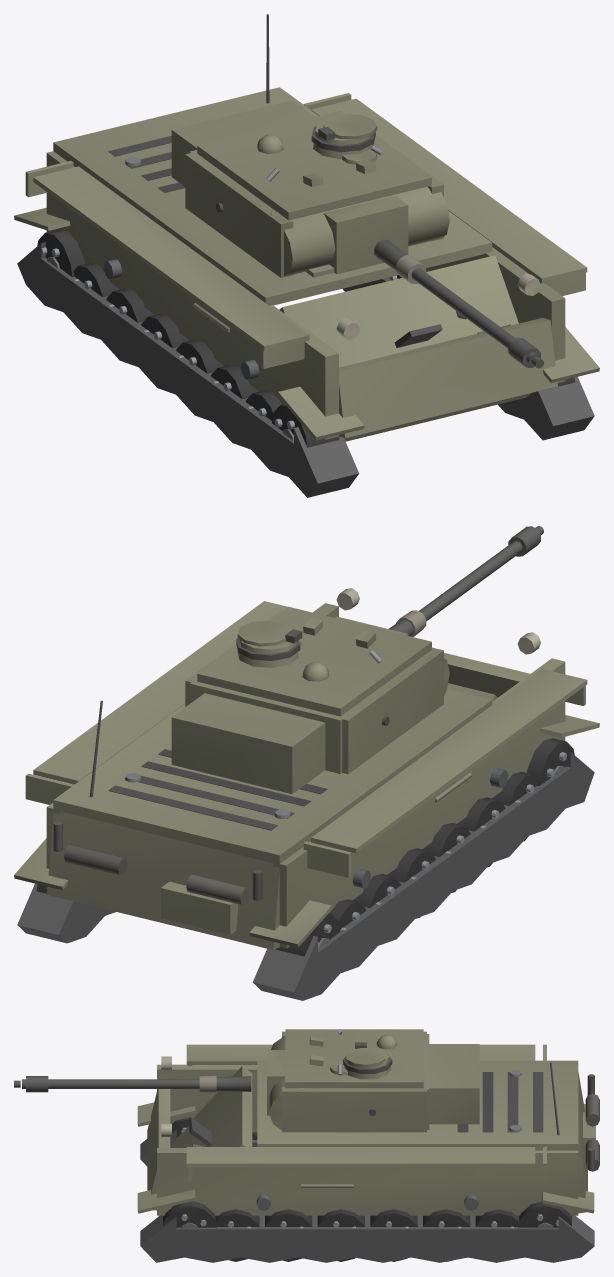
Rendered from m46patton.glb.
The picture shows the model from 3 angles, top to bottom: view 1: azimuth 30°, elevation 25°; view 2: azimuth 150°, elevation 25°; view 3: azimuth 270°, elevation 25°; orthographic projection. The views are drawn at different scales.
Visible parts, largest first — view 1: hullSide, tracks, hullTop, turretRoof, lowerPlate, glacis, turretFront, turretSide, mantlet, barrel, wheel7, wheel6 (+6 smaller); view 2: hullSide, hullTop, tracks, hullRear, turretRoof, turretFront, turretSide, barrel, turretRear, lowerPlate, wheel6, wheel3 (+6 smaller); view 3: hullSide, tracks, hullTop, turretRoof, turretSide, turretFront, glacis, barrel, hullRear, lowerPlate, wheel14, wheel15 (+8 smaller).
Part boxes in pixels (bbox=[...]): hullSide: bbox=[25, 93, 587, 439]; tracks: bbox=[14, 207, 599, 497]; hullTop: bbox=[53, 87, 492, 305]; turretRoof: bbox=[197, 110, 431, 220]; lowerPlate: bbox=[339, 318, 557, 438]; glacis: bbox=[279, 255, 531, 441]; turretFront: bbox=[171, 100, 449, 276]; turretSide: bbox=[185, 135, 443, 277]; mantlet: bbox=[323, 195, 408, 274]; barrel: bbox=[374, 239, 543, 368]; wheel7: bbox=[37, 229, 84, 276]; wheel6: bbox=[272, 404, 339, 447]; hullSide: bbox=[25, 588, 587, 948]; hullTop: bbox=[53, 689, 492, 864]; tracks: bbox=[14, 715, 599, 1000]; hullRear: bbox=[47, 700, 279, 949]; turretRoof: bbox=[197, 607, 431, 716]; turretFront: bbox=[171, 656, 449, 793]; turretSide: bbox=[185, 610, 443, 773]; barrel: bbox=[389, 526, 543, 636]; turretRear: bbox=[189, 682, 342, 773]; lowerPlate: bbox=[444, 653, 530, 697]; wheel6: bbox=[527, 738, 574, 785]; wheel3: bbox=[422, 823, 470, 892]; hullSide: bbox=[157, 1044, 578, 1215]; tracks: bbox=[137, 1102, 594, 1262]; hullTop: bbox=[257, 1060, 578, 1150]; turretRoof: bbox=[285, 1029, 423, 1088]; turretSide: bbox=[282, 1031, 426, 1132]; turretFront: bbox=[268, 1038, 479, 1130]; glacis: bbox=[171, 1066, 252, 1147]; barrel: bbox=[14, 1075, 251, 1092]; hullRear: bbox=[550, 1062, 599, 1213]; lowerPlate: bbox=[147, 1089, 170, 1210]; wheel14: bbox=[163, 1201, 216, 1228]; wheel15: bbox=[518, 1201, 571, 1228].
Bounding box in the file's own units: 4.28 × 3.04 × 8.9.
